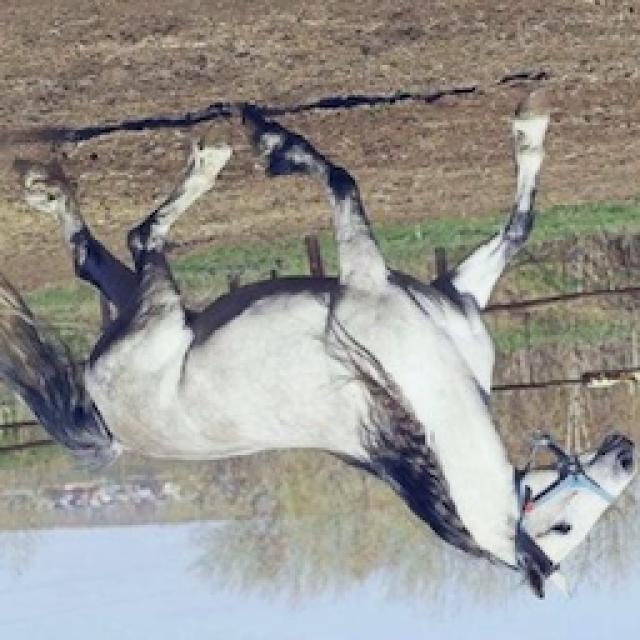Horse: (2, 85, 640, 608)
